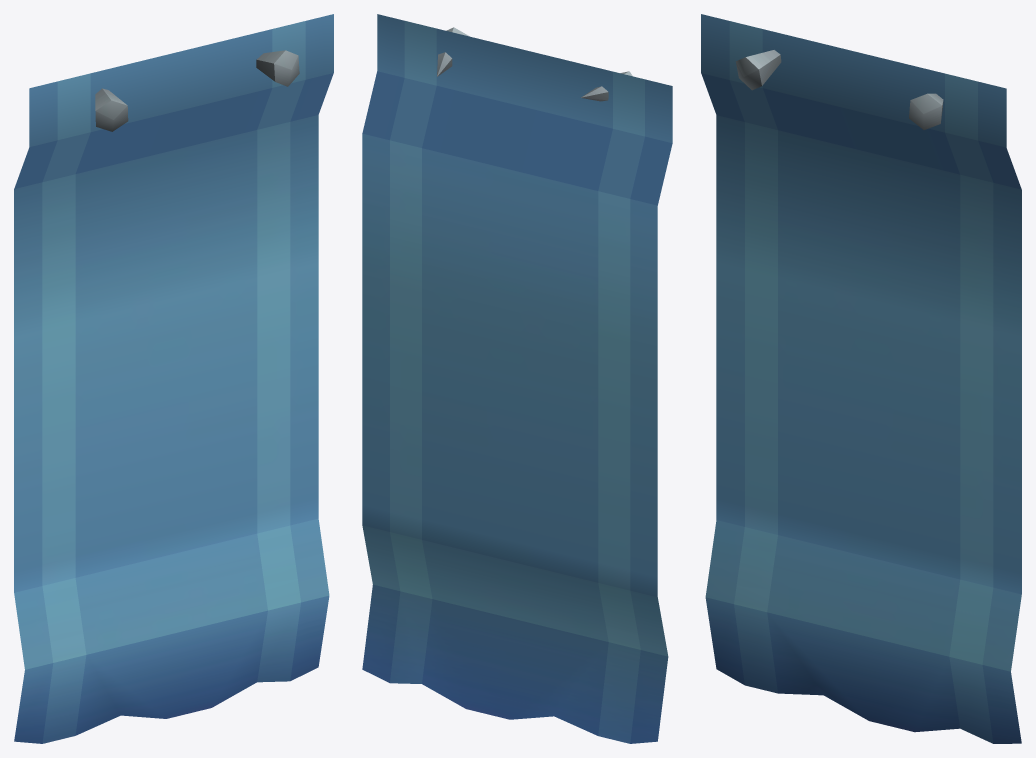
File: banner_blue.glb
3 renders of one model, left to right at view 1: azimuth 30°, elevation 25°; view 2: azimuth 150°, elevation 25°; view 3: azimuth 330°, elevation 25°, orthographic. The views are drawn at different scales.
Parts seen in each view (by area): view 1: banner_blue; view 2: banner_blue; view 3: banner_blue.
Part boxes in pixels (bbox=[...]): banner_blue: bbox=[14, 14, 333, 743]; banner_blue: bbox=[362, 14, 672, 743]; banner_blue: bbox=[701, 14, 1021, 743].
Size of the model in its own units: 1.5 by 3.2 by 0.3117.
Materials: 1 (1 with a texture image).
